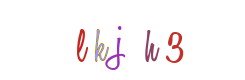3: (94, 0, 174, 80)
H: (89, 0, 169, 80)
J: (84, 0, 164, 80)
K: (82, 0, 162, 80)
L: (65, 0, 145, 80)
